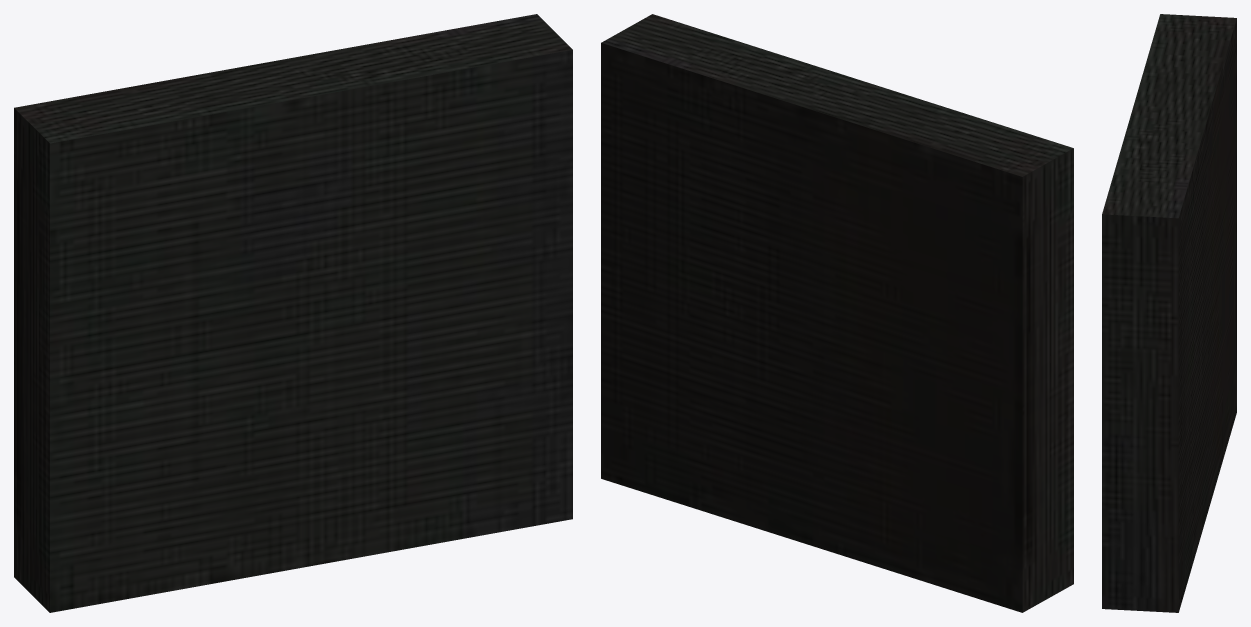
Rendered from seat__seat_pad.glb.
3 views of the same model, side by side, from view 1: azimuth 30°, elevation 25°; view 2: azimuth 150°, elevation 25°; view 3: azimuth 270°, elevation 25° (orthographic). The views are drawn at different scales.
Visible parts, largest first — view 1: world; view 2: world; view 3: world.
Boxes of the visible parts, x1,y1,x2,y2 form: world: (14,14,572,612); world: (601,14,1073,612); world: (1102,14,1236,612).
Bounding box in the file's own units: 0.3442 × 0.31 × 0.096.
Materials: 1 (1 with a texture image).
